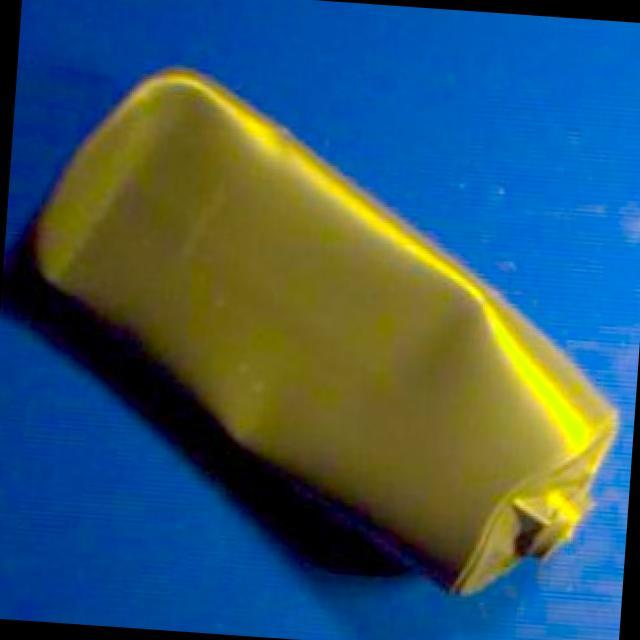HDPE Plastic: (25, 60, 625, 606)
